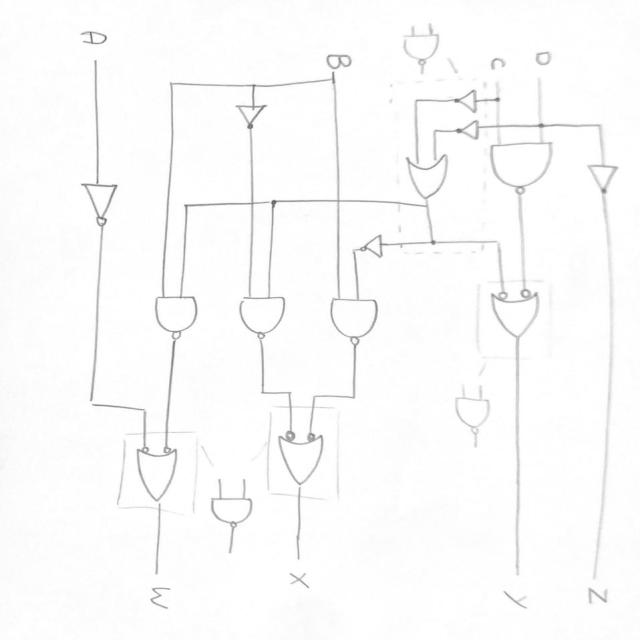NAND: (489, 138, 561, 200), (321, 289, 392, 349), (150, 284, 209, 344), (231, 290, 297, 343), (207, 494, 269, 537), (451, 389, 501, 441), (394, 27, 450, 69)
NOT: (75, 174, 135, 233), (574, 155, 630, 200), (229, 98, 278, 133), (354, 232, 395, 264), (448, 83, 486, 114), (454, 118, 483, 145)
OR: (122, 437, 191, 509), (272, 421, 338, 491), (401, 150, 466, 202)
